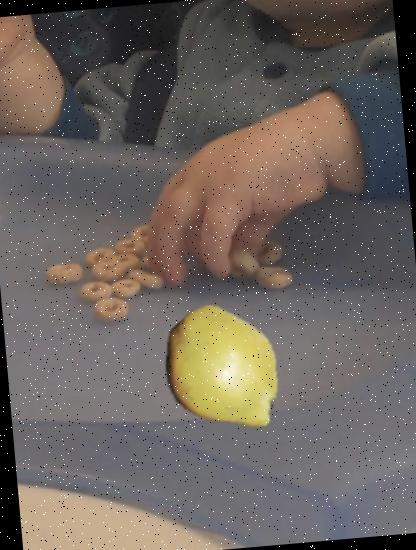Quince: (151, 300, 298, 447)
